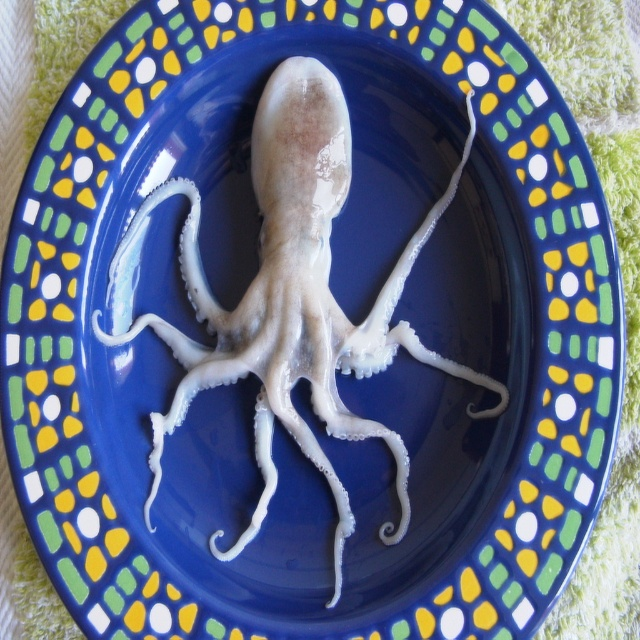Squid: (91, 55, 510, 609)
